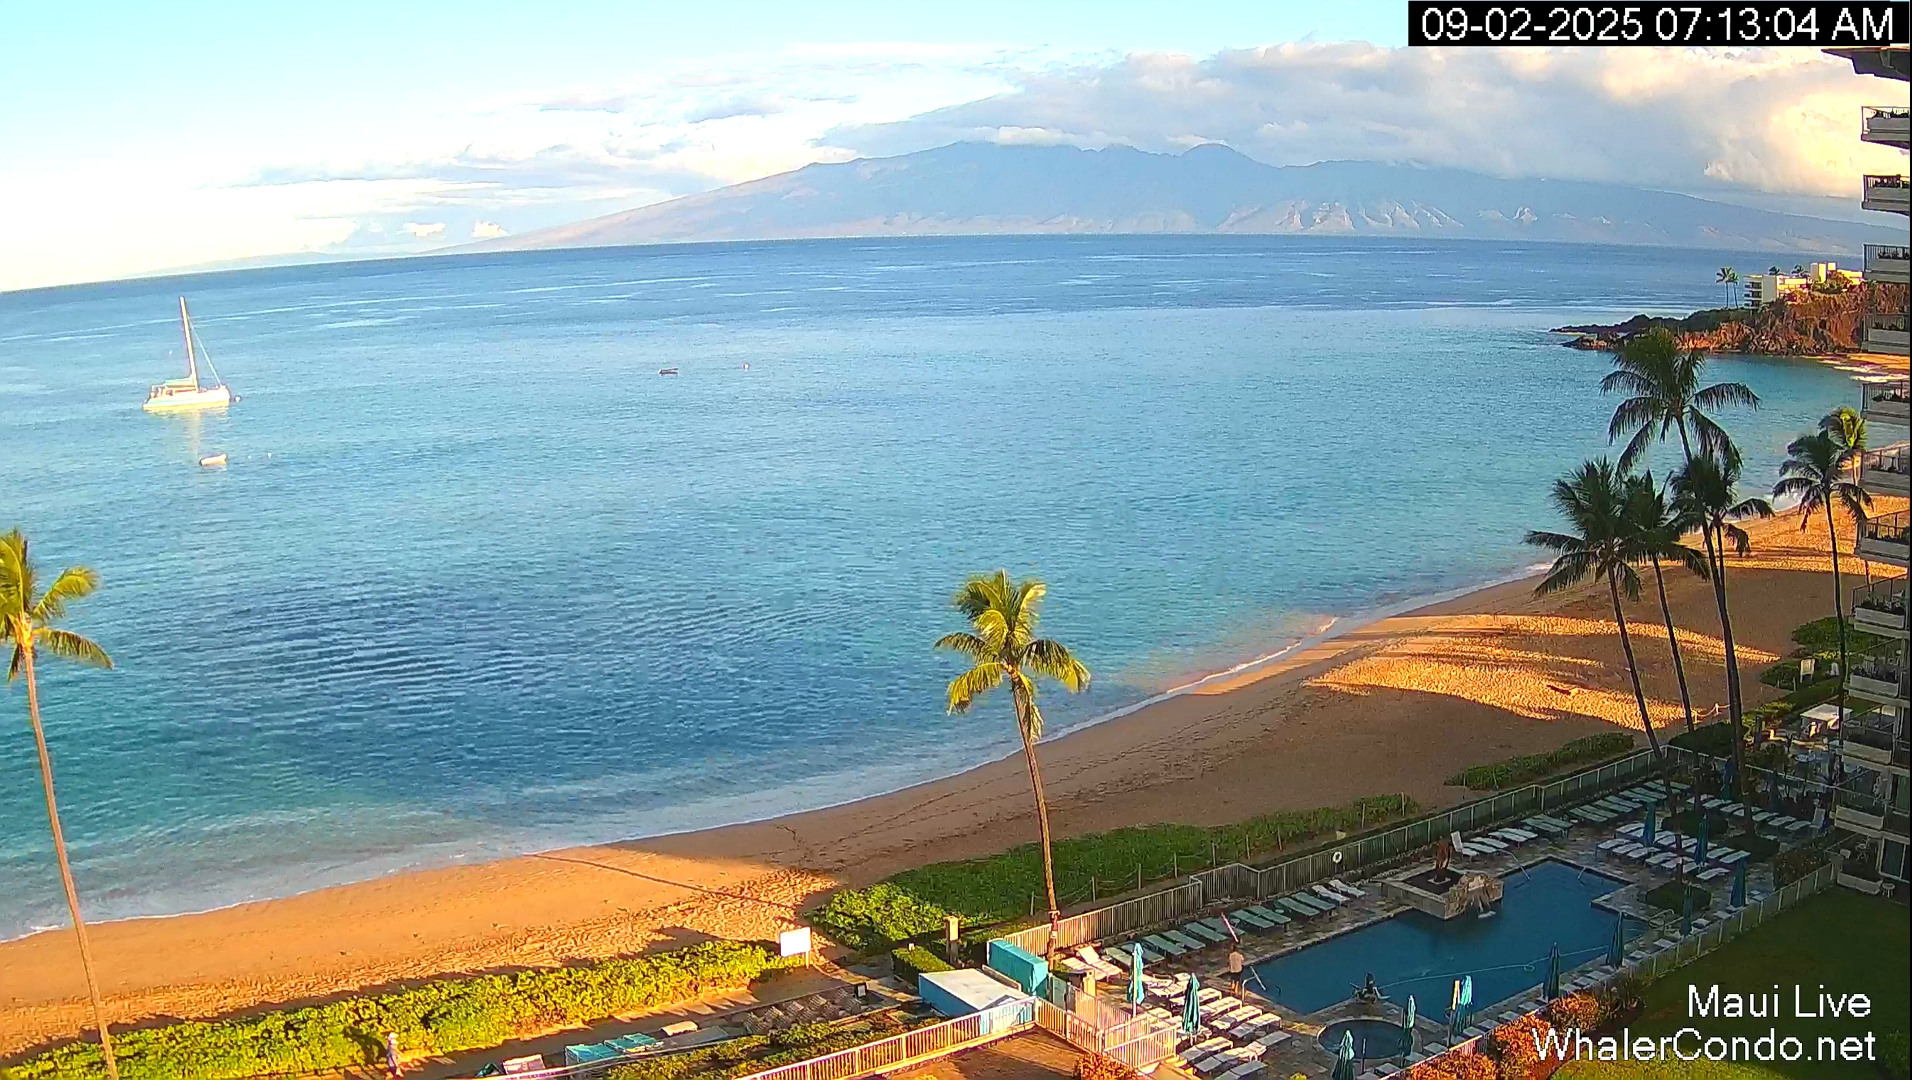boat: (142, 296, 236, 412), (1314, 972, 1414, 1064)
person: (1228, 945, 1245, 993)
